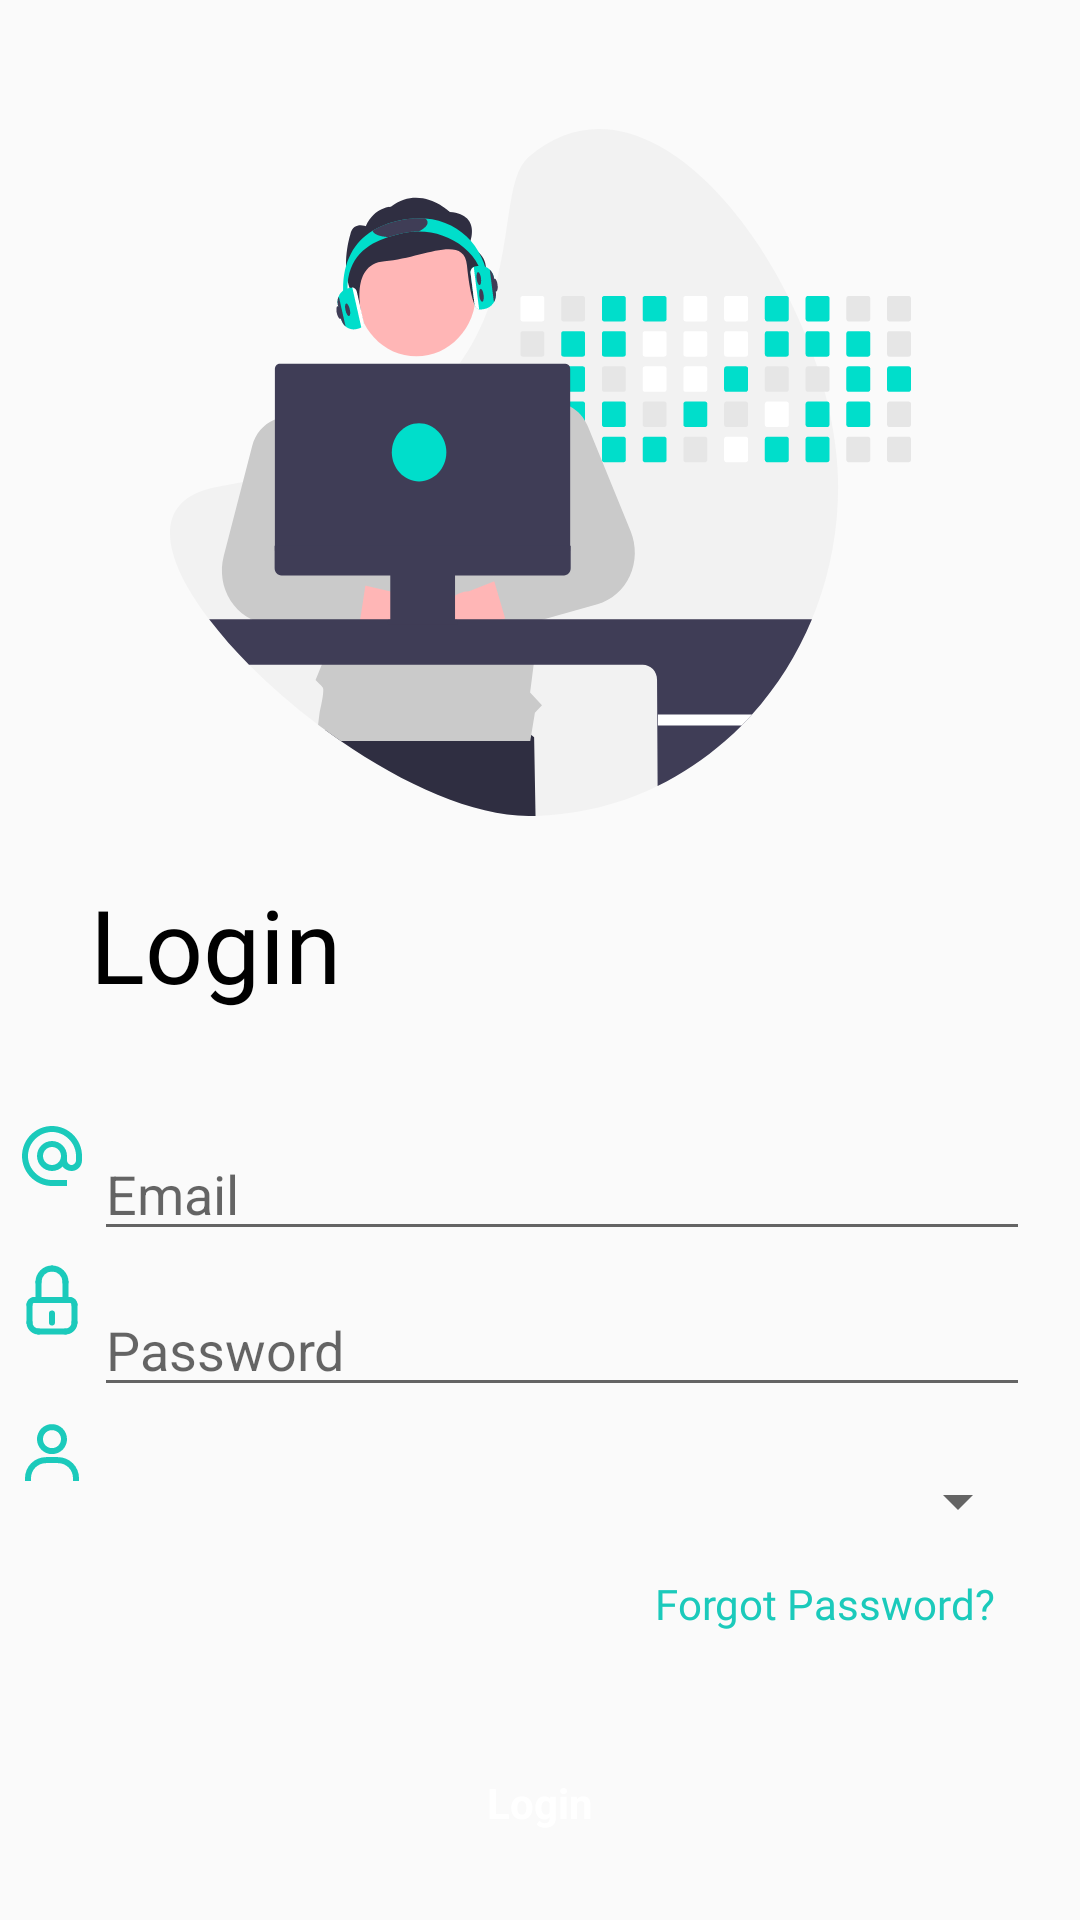

Named icons in this screenshot (1080 × 1920) and their bounding boxes, (x1, y1, x2, y2):
gala lock: (26, 1265, 78, 1335)
user: (25, 1424, 79, 1481)
